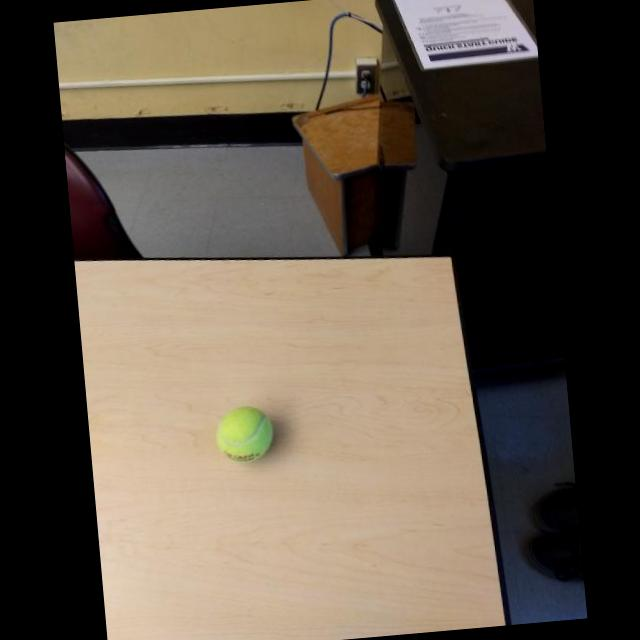Tennis Ball: (214, 402, 276, 466)
